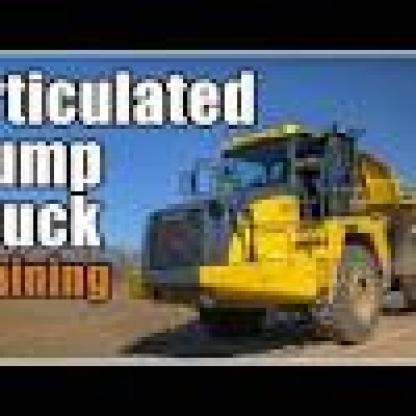dump_truck: (125, 104, 412, 362)
